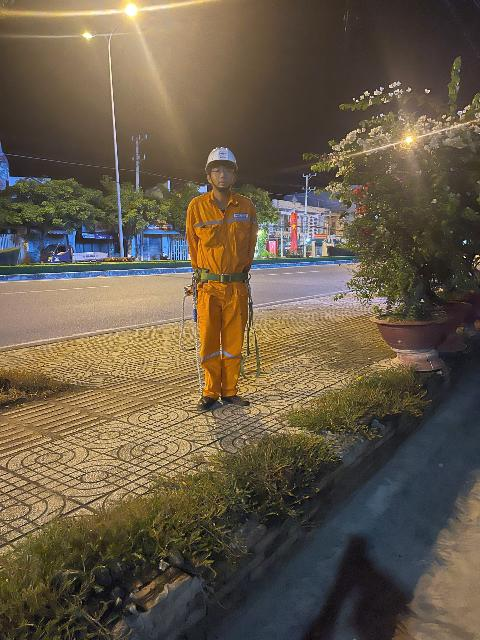harness: (189, 262, 253, 291)
helmet: (191, 145, 243, 172)
shoes: (222, 391, 252, 408), (195, 393, 217, 414)
